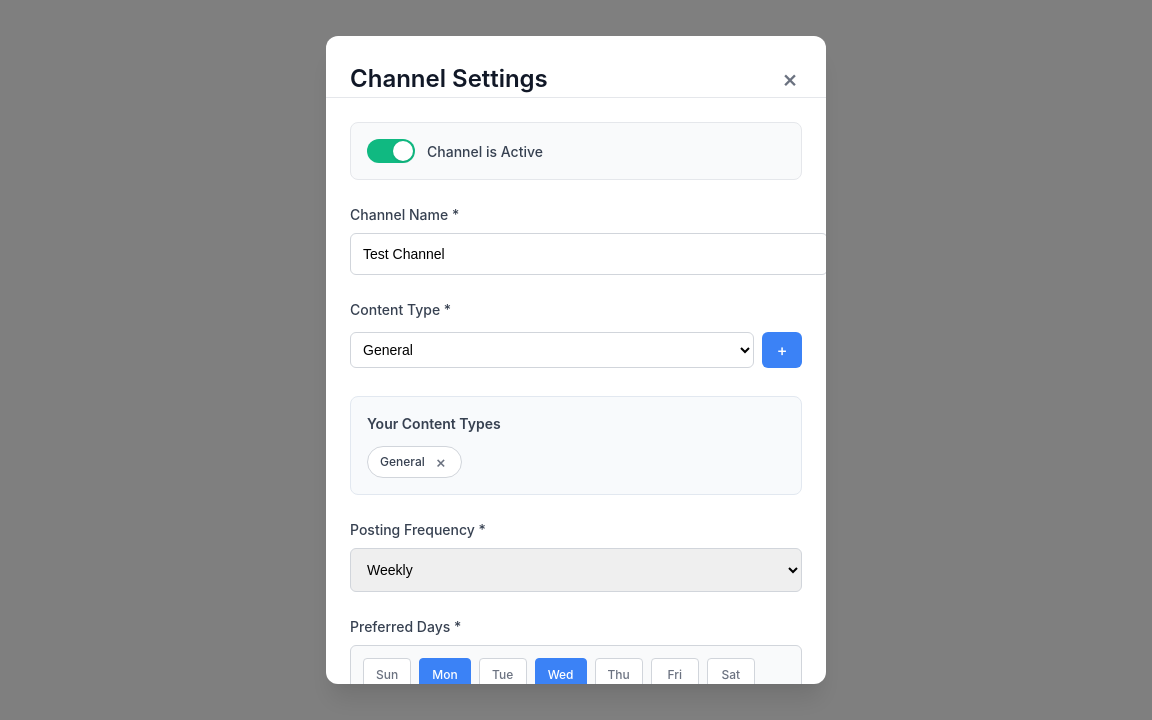
it: ChannelSettings › allows toggling channel active status
Expected: the text "Channel is Active" is shown, x1=427 y1=140 x2=543 y2=162
Click the checkbox: (391, 151) x1=350 y1=122 x2=802 y2=180
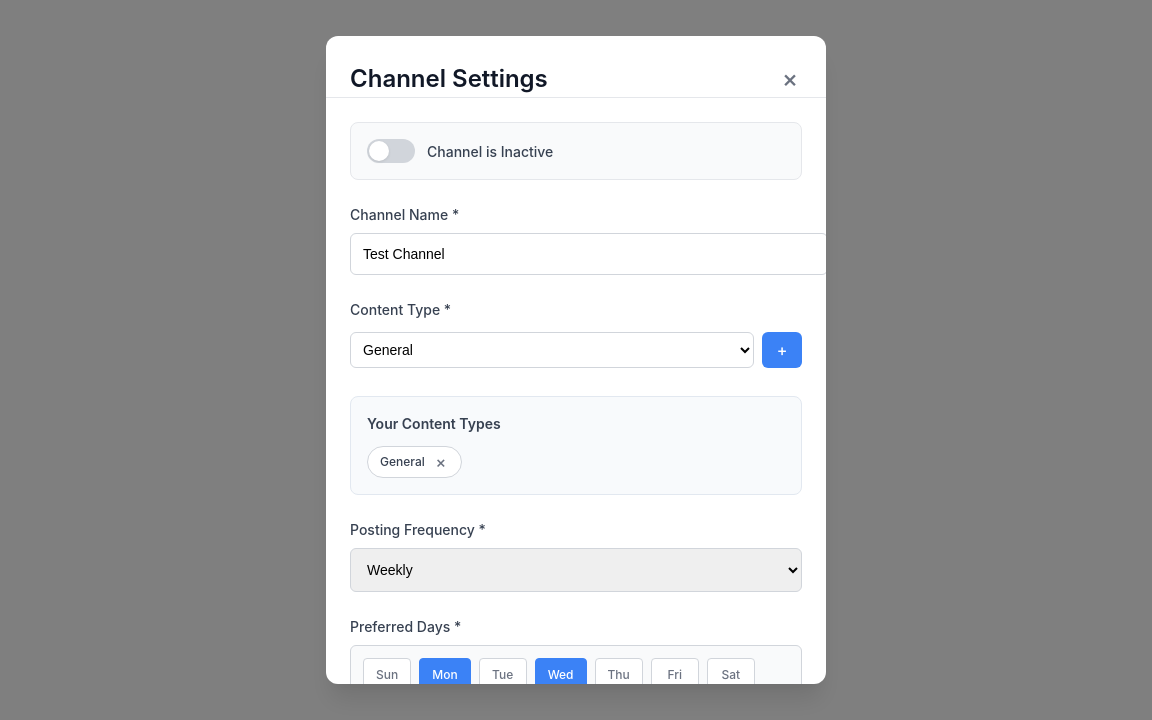
Expected: the checkbox is not checked, x1=350 y1=122 x2=802 y2=180
Expected: the text "Channel is Inactive" is shown, x1=427 y1=140 x2=553 y2=162
